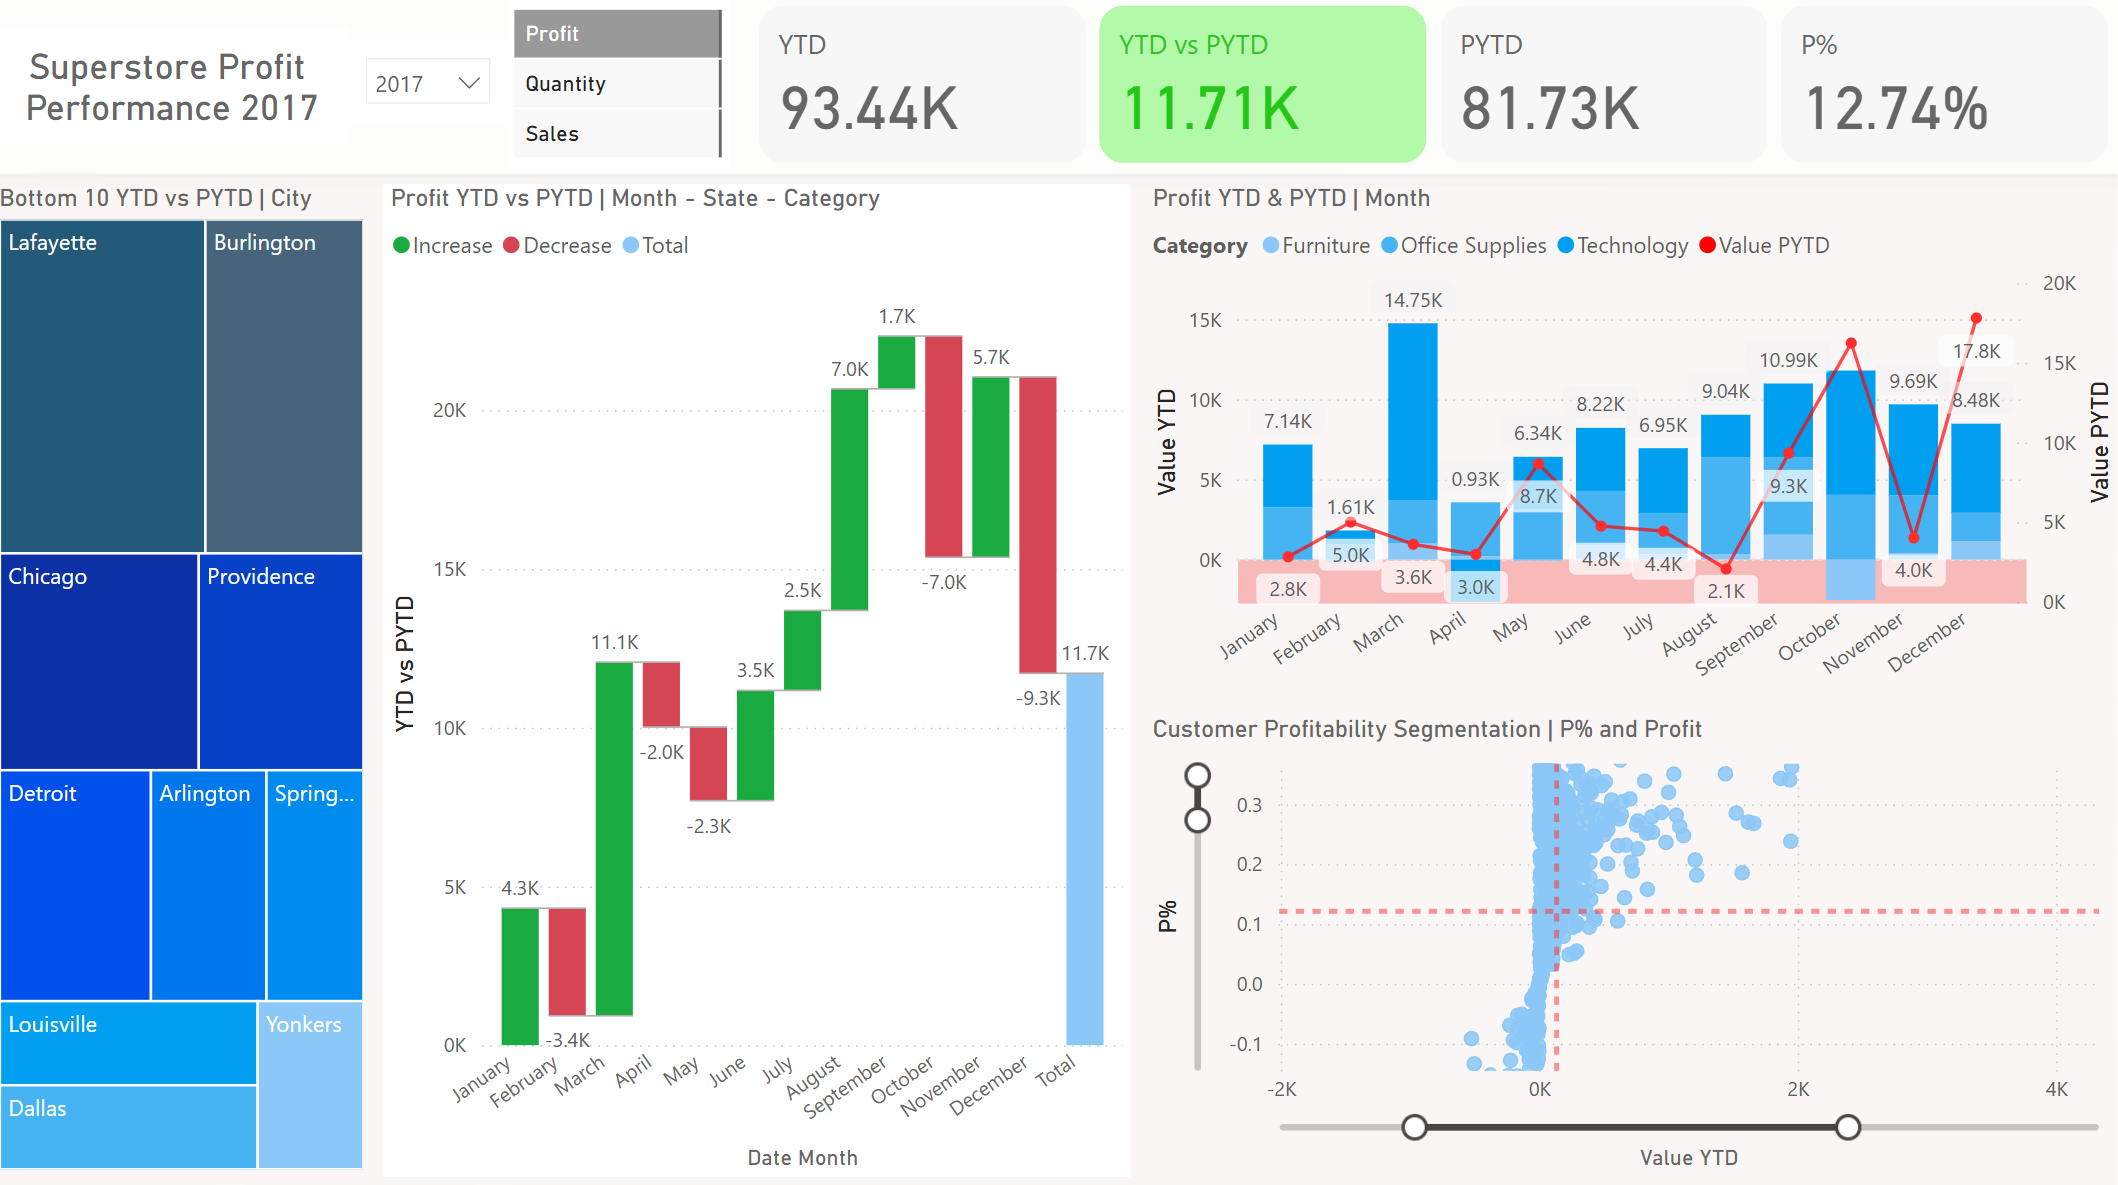

What the dashboard file says about the page in this screenshot:
{"tool":"powerbi","page":{"name":"Page 1","canvas":[1280,720],"ordinal":0},"visuals":[{"type":"advancedSlicerVisual","fields":{"Values":["Slc_Values.Values"]},"box":[309.8,5.1,135.1,101.6],"z":0},{"type":"cardVisual","fields":{"Data":["_Measures.S_YTD","_Measures.YTD vs PYTD","_Measures.S_PYTD","_Measures.P%"]},"box":[456.1,3,823.9,105.7],"z":1000},{"type":"slicer","fields":{"Values":["Dim_Date.Date.Variation.Date Hierarchy.Year"]},"box":[215.9,30.2,94.3,49.6],"z":2000},{"type":"waterfallChart","fields":{"Y":["_Measures.YTD vs PYTD"],"Category":["Dim_Date.Date.Variation.Date Hierarchy.Month","Fact_Sales.State","Fact_Sales.Category"]},"box":[235.7,115.8,450,597.3],"z":3000},{"type":"card","fields":{"Values":["_Measures._Report title"]},"box":[1,21.4,215,69.1],"z":4000},{"type":"lineStackedColumnComboChart","fields":{"Category":["Dim_Date.Date.Variation.Date Hierarchy.Quarter","Dim_Date.Date.Variation.Date Hierarchy.Month"],"Y":["_Measures.S_YTD"],"Y2":["_Measures.S_PYTD"],"Series":["Fact_Sales.Category"]},"box":[693.8,115.8,586.2,319],"z":5000},{"type":"treemap","title":"Bottom 10 YTD vs PYTD | City","fields":{"Values":["_Measures.YTD vs PYTD"],"Group":["Fact_Sales.City"]},"box":[0,115.8,228.6,597.3],"z":6000},{"type":"scatterChart","fields":{"Category":["Fact_Sales.Customer Name"],"X":["_Measures.S_YTD"],"Y":["_Measures.P%"]},"box":[693.8,434.8,586.2,278.3],"z":7000}]}

Visuals, with their boxes in screenshot pixels (x1, y1, x2, y2), scaled from the page's 1280x720 canvas onto the 2118x1185 screenshot:
advancedSlicerVisual - Slc_Values.Values: (left=513, top=8, right=736, bottom=176)
cardVisual - _Measures.S_YTD x _Measures.YTD vs PYTD: (left=755, top=5, right=2117, bottom=179)
slicer - Dim_Date.Date.Variation.Date Hierarchy.Year: (left=357, top=50, right=513, bottom=131)
waterfallChart - _Measures.YTD vs PYTD x Dim_Date.Date.Variation.Date Hierarchy.Month: (left=390, top=191, right=1135, bottom=1174)
card - _Measures._Report title: (left=2, top=35, right=357, bottom=149)
lineStackedColumnComboChart - Dim_Date.Date.Variation.Date Hierarchy.Quarter x Dim_Date.Date.Variation.Date Hierarchy.Month: (left=1148, top=191, right=2117, bottom=716)
"Bottom 10 YTD vs PYTD | City" treemap: (left=0, top=191, right=378, bottom=1174)
scatterChart - Fact_Sales.Customer Name x _Measures.S_YTD: (left=1148, top=716, right=2117, bottom=1174)
